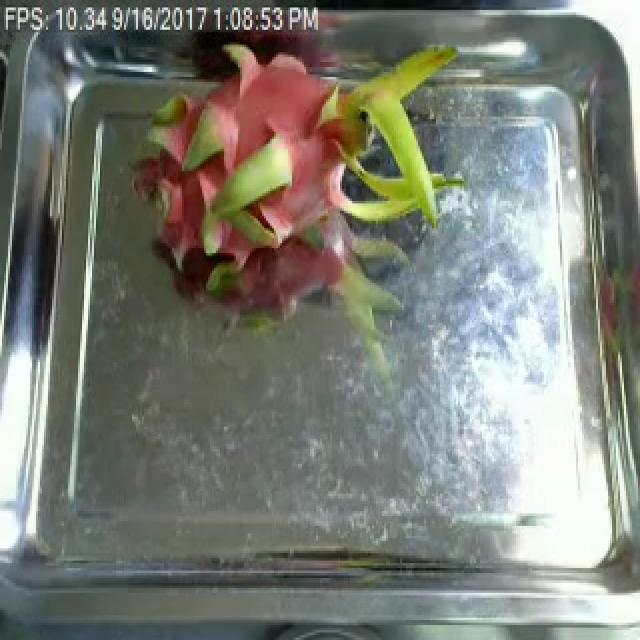fruit: (102, 0, 488, 375)
